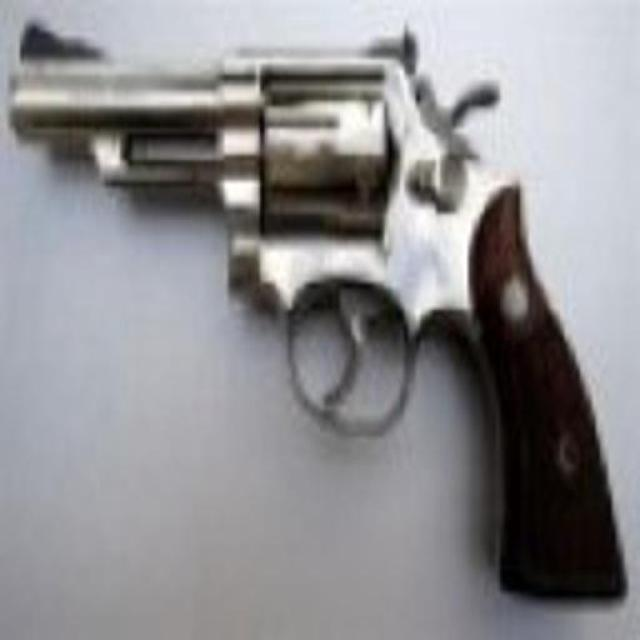pistol: (15, 15, 624, 602)
